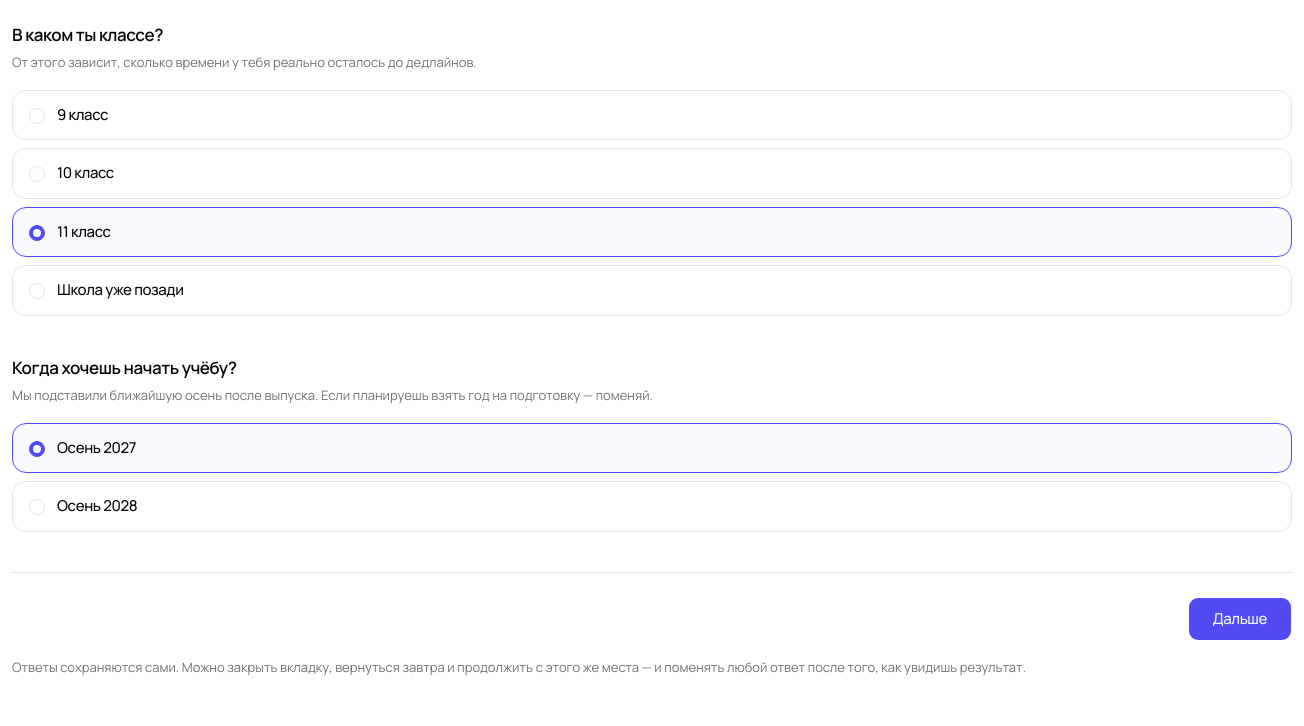
Questionnaire › walks all six groups without ever disabling the forward button
(page scrolled)
Click the button "Дальше". click: (1240, 619)
box: x1=1188 y1=597 x2=1292 y2=641
(page scrolled)
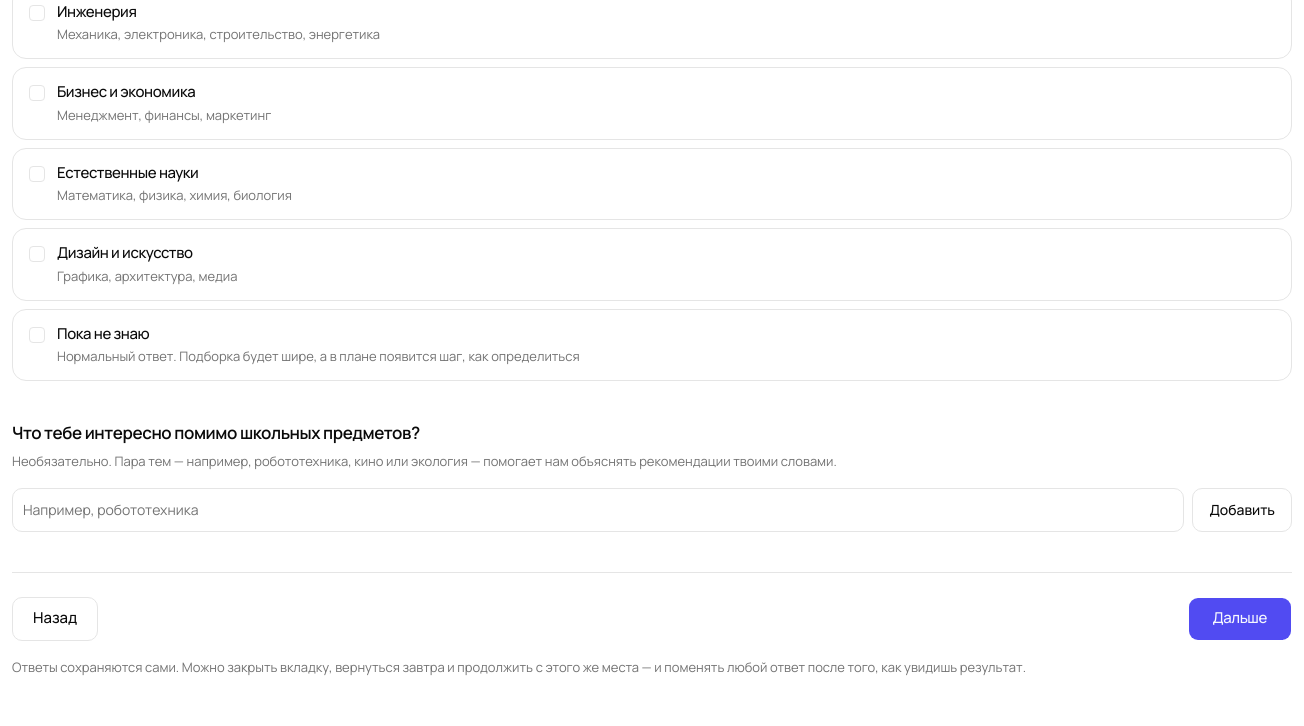
Click the button "Дальше". click: (1240, 619)
box: x1=1188 y1=597 x2=1292 y2=641
(page scrolled)
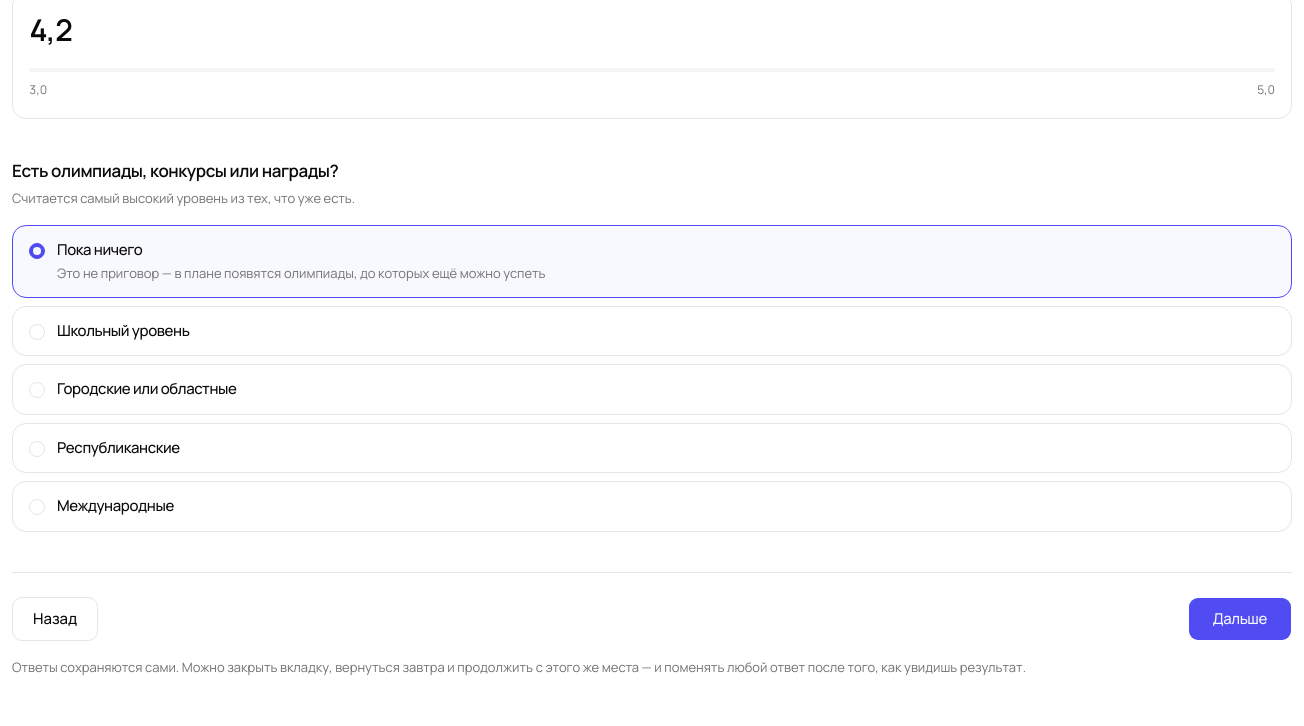
Click the button "Дальше". click: (1240, 619)
box: x1=1188 y1=597 x2=1292 y2=641
(page scrolled)
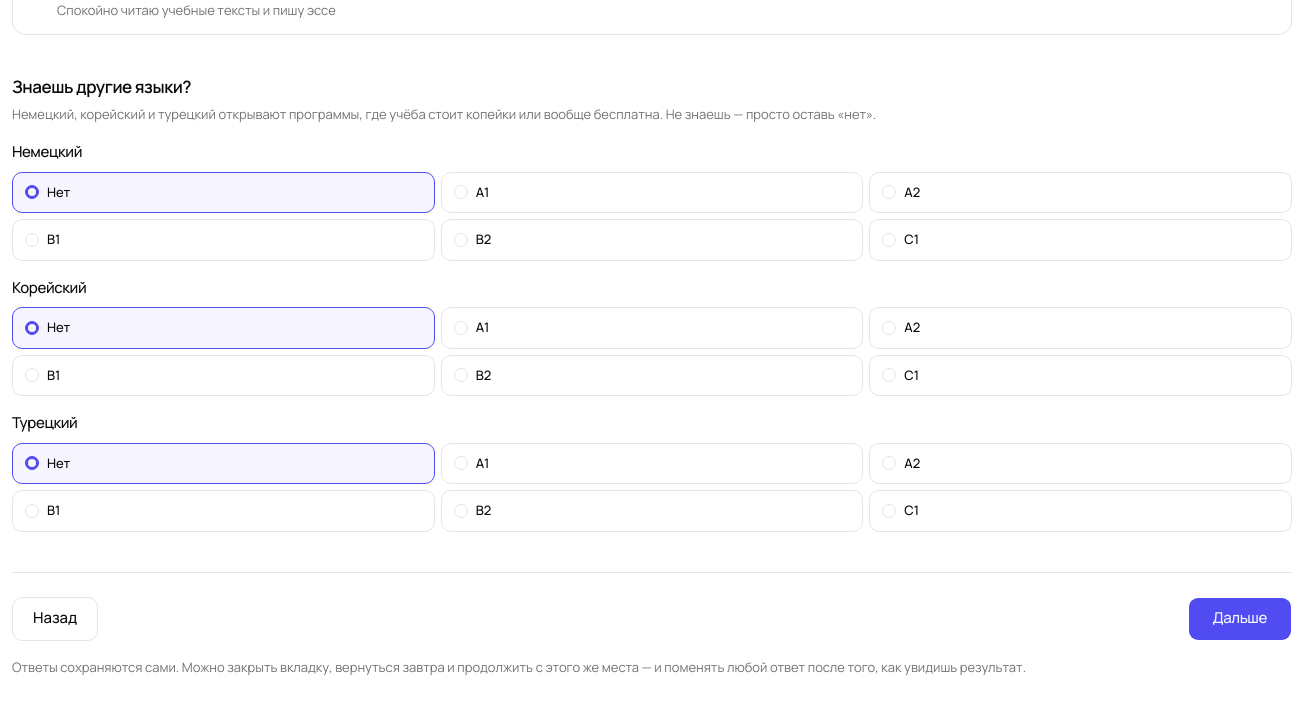
Click the button "Дальше". click: (1240, 619)
box: x1=1188 y1=597 x2=1292 y2=641
(page scrolled)
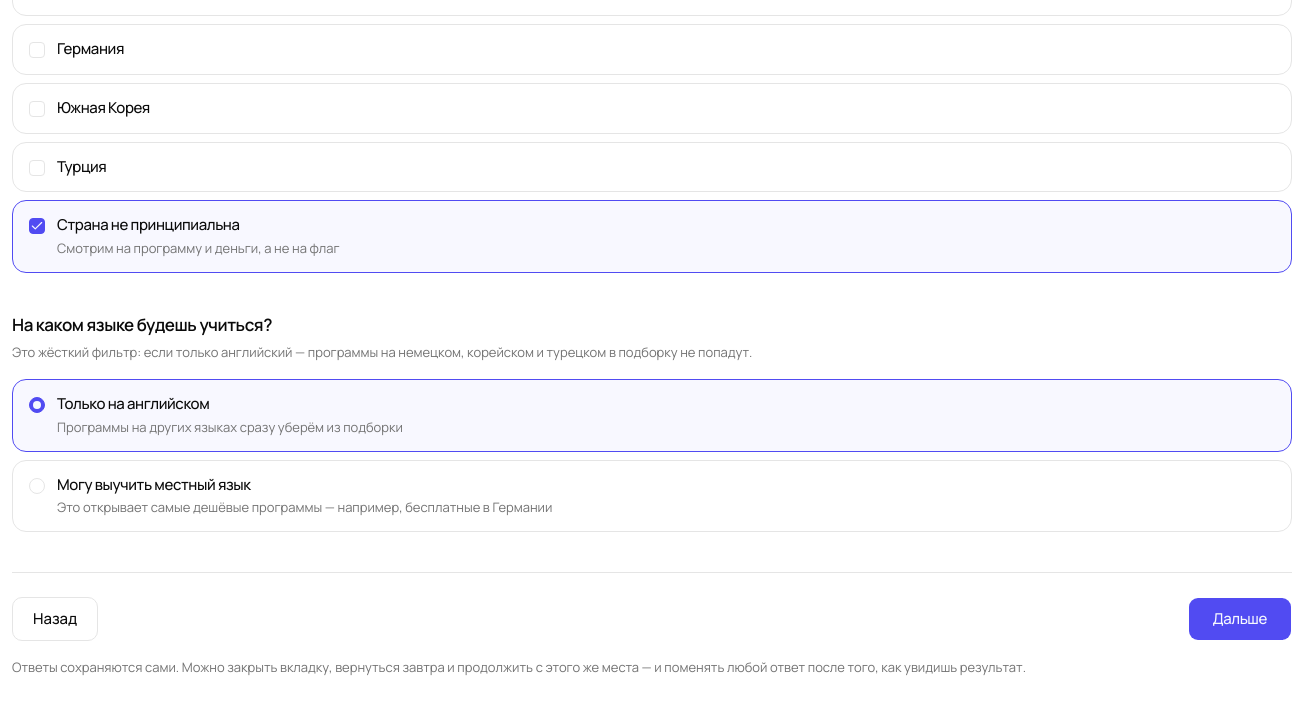
Click the button "Дальше". click: (1240, 619)
box: x1=1188 y1=597 x2=1292 y2=641
(page scrolled)
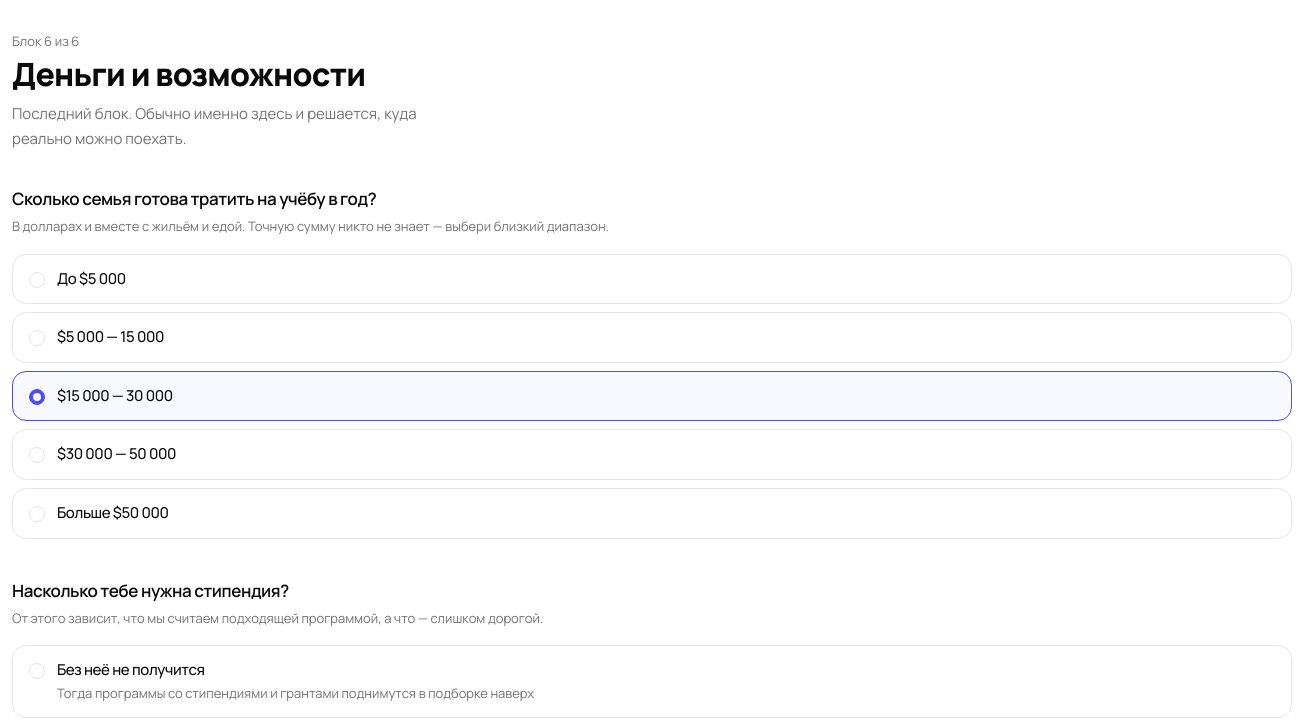
Expected: the heading reads "Деньги и возможности", x1=12 y1=52 x2=365 y2=96
